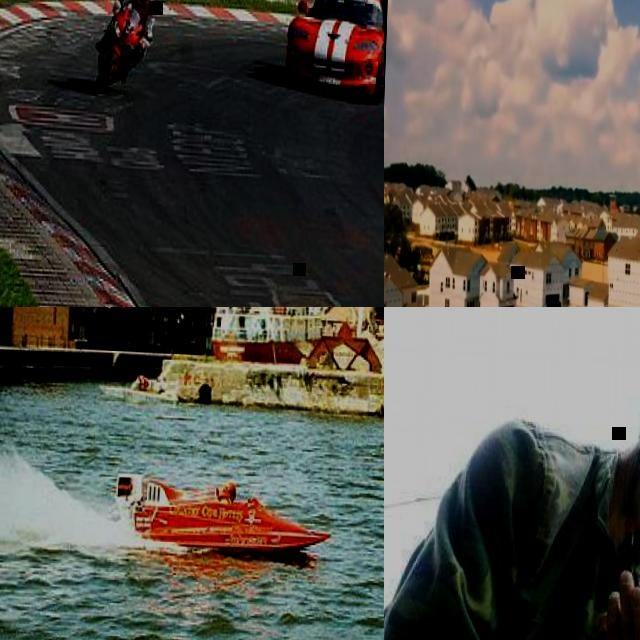Hardhat: (221, 480, 238, 497)
NO-Safety Vest: (384, 416, 640, 640), (130, 0, 153, 27)
Person: (384, 361, 640, 640), (120, 0, 157, 78), (220, 481, 237, 505)
vehicle: (281, 0, 384, 105), (541, 298, 561, 307)
